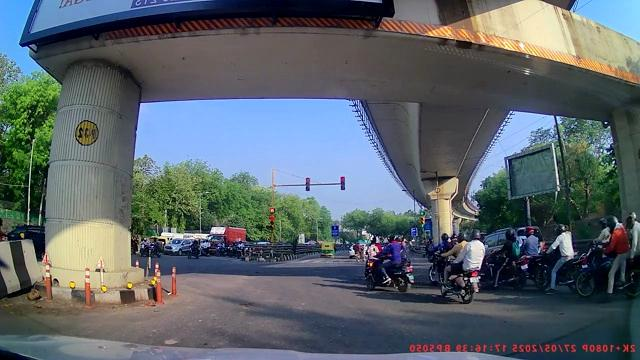motorcycle_with_helmet: (533, 223, 587, 291), (366, 233, 415, 293), (487, 227, 529, 288)
passenger_with_helmet: (577, 210, 639, 297), (440, 229, 486, 304)
